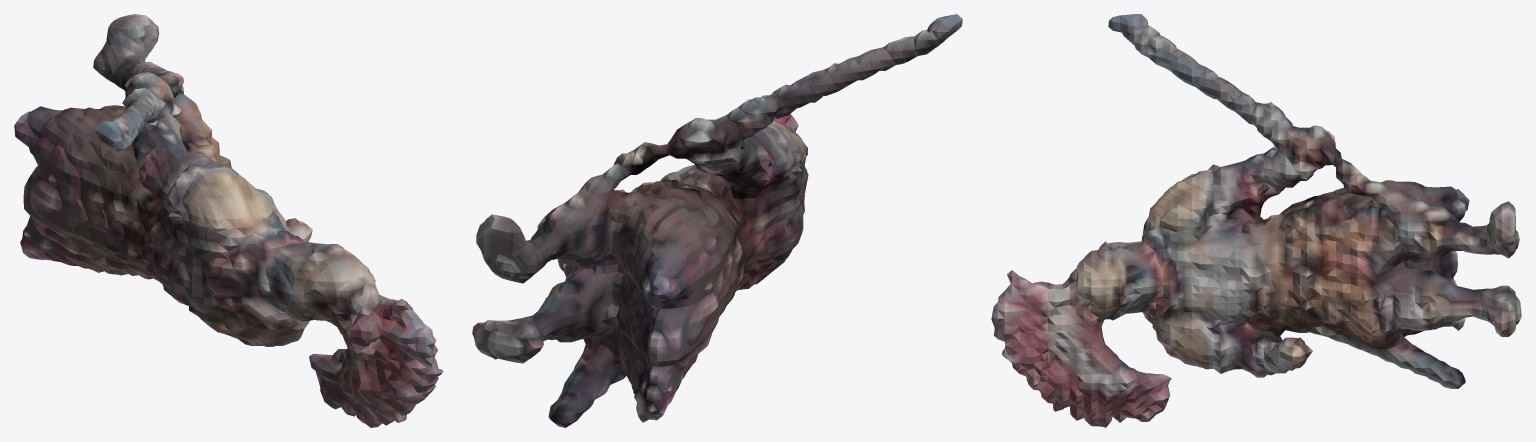
File: renais_warrior_m_0.glb
The picture shows the model from 3 angles, left to right: view 1: azimuth 30°, elevation 25°; view 2: azimuth 150°, elevation 25°; view 3: azimuth 270°, elevation 25°; orthographic projection. The views are drawn at different scales.
Visible parts, largest first — view 1: world; view 2: world; view 3: world.
Part boxes in pixels (x1,y1,x2,y2): world: (14,14,443,427); world: (472,14,962,427); world: (991,14,1521,427).
Size of the model in its own units: 0.5919 by 0.6457 by 1.01.
